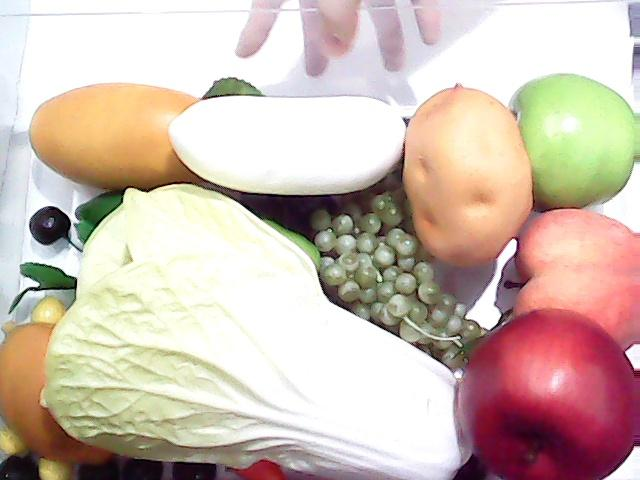apple: (457, 307, 638, 480), (496, 71, 640, 209)
carrot: (224, 458, 284, 480)
grape: (289, 182, 471, 362)
lemon: (0, 319, 100, 459)
mango: (23, 79, 250, 196)
napa cabbage: (31, 191, 485, 480)
peach: (504, 210, 640, 354)
pepper: (67, 180, 321, 280)
potato: (402, 82, 534, 270)
radish: (168, 92, 408, 198)
